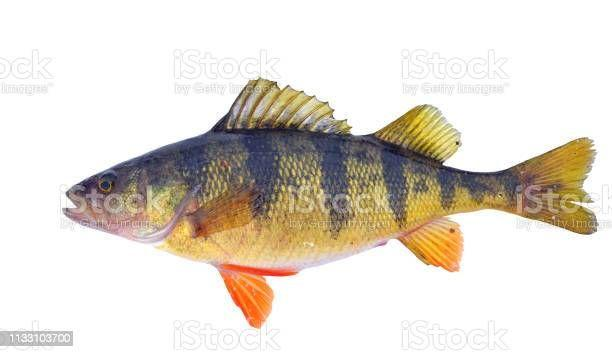Perch: (57, 75, 600, 331)
